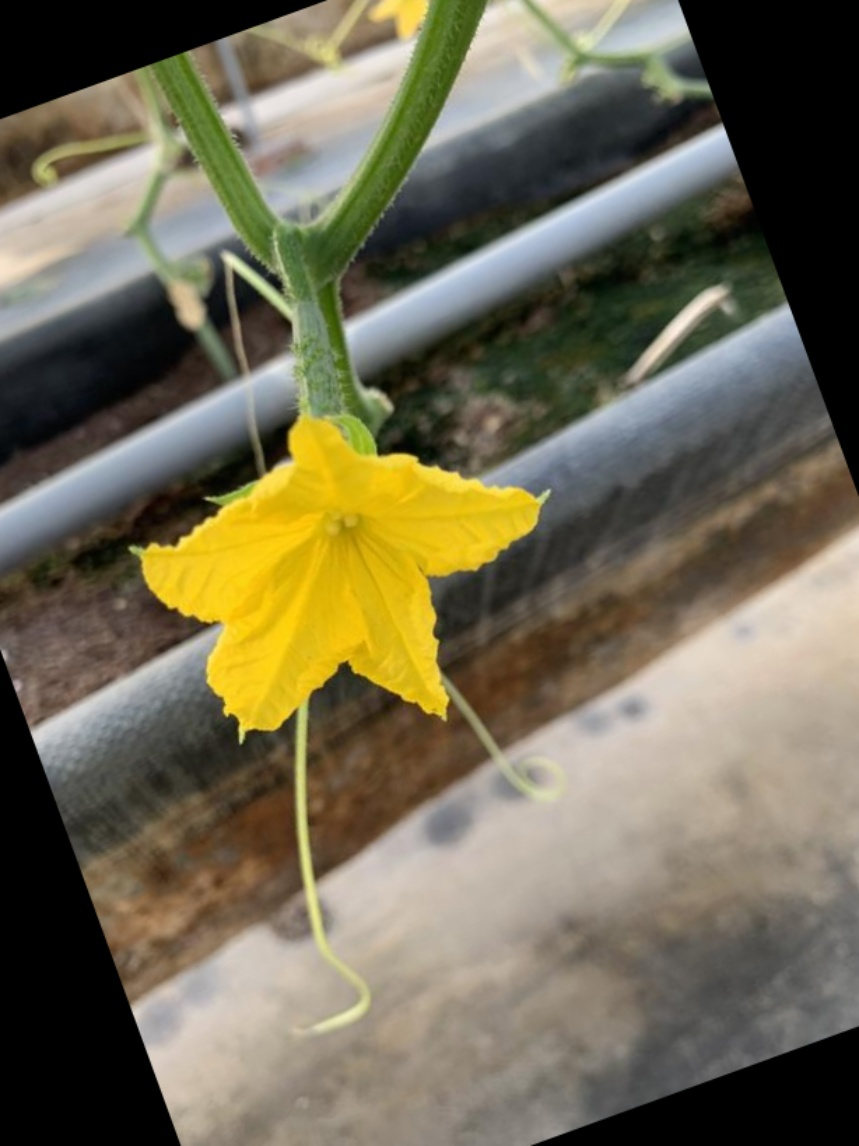flowering: (111, 275, 553, 753)
